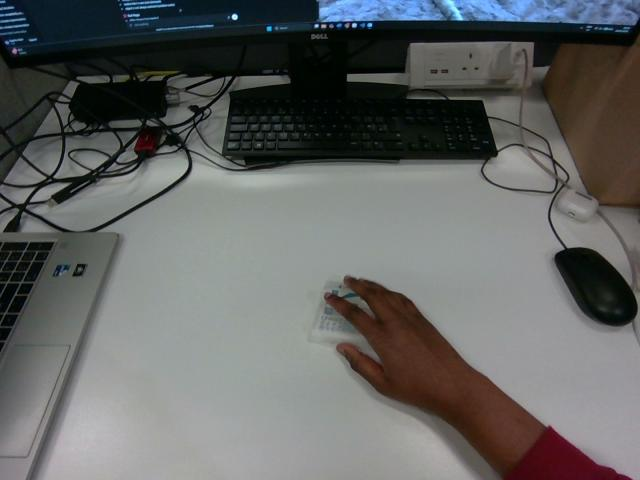gauze: (309, 282, 372, 351)
